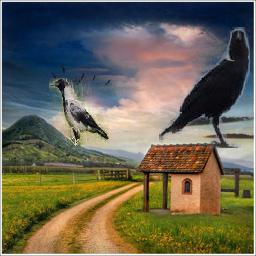Crow: (160, 28, 251, 149), (49, 78, 109, 146)
